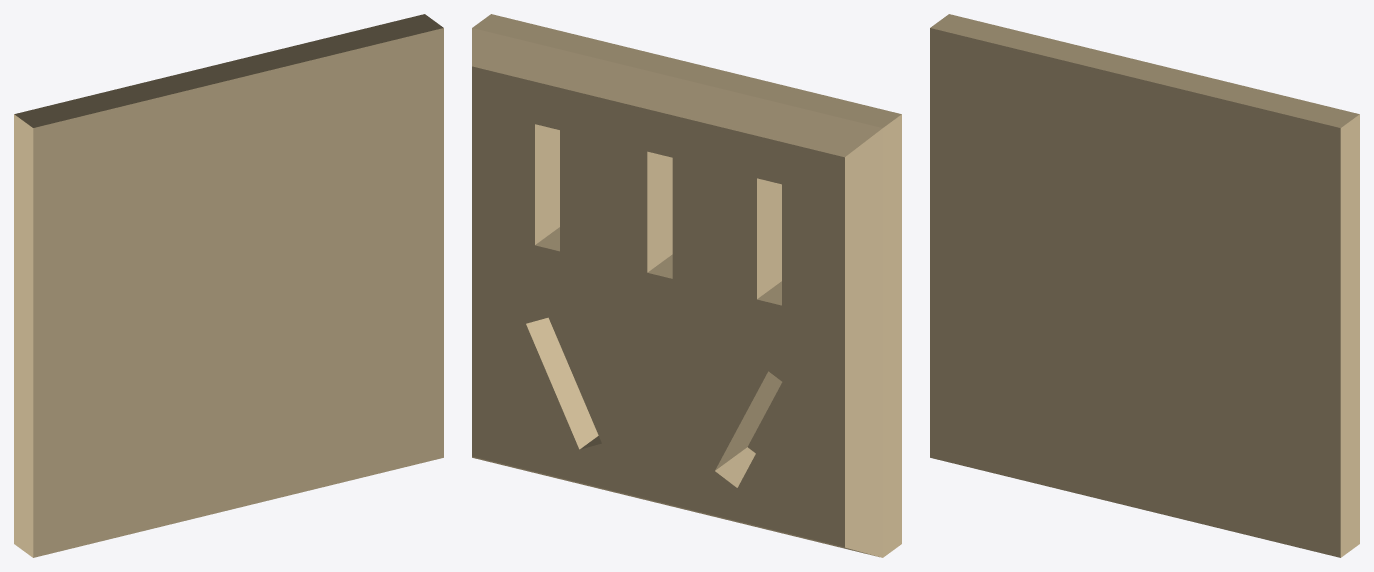
Rendered from Electric Socket 3.fbx.
The picture shows the model from 3 angles, left to right: view 1: azimuth 30°, elevation 25°; view 2: azimuth 150°, elevation 25°; view 3: azimuth 330°, elevation 25°; orthographic projection.
Parts seen in each view (by area): view 1: Node 0; view 2: Node 0; view 3: Node 0.
Part boxes in pixels (<box>): Node 0: <box>14,14,443,557</box>; Node 0: <box>472,14,901,557</box>; Node 0: <box>930,14,1359,557</box>.
Size of the model in its own units: 0.0147 by 0.0917 by 0.0917.
